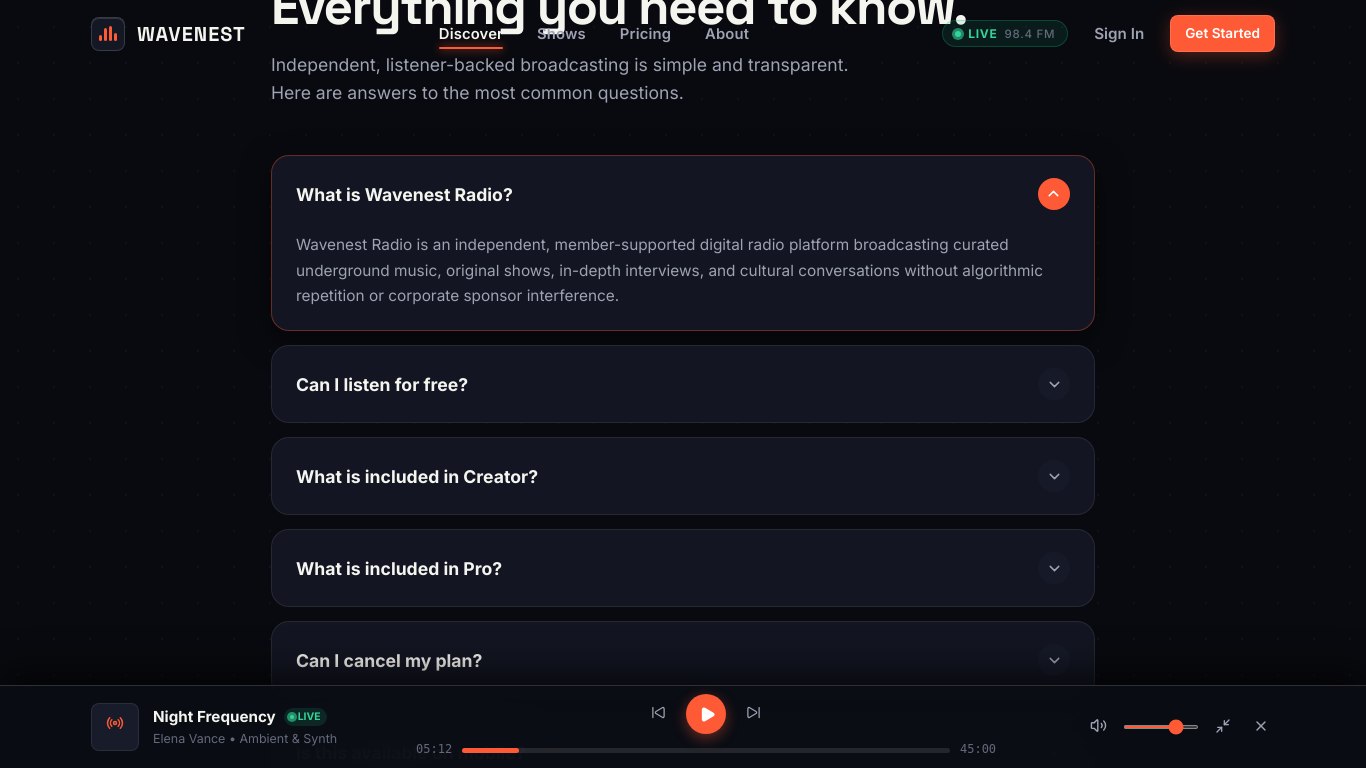
Test: Wavenest Radio Application Test Suite › toggles FAQ accordion cleanly
(page scrolled)
Expected: the text "What is Wavenest Radio?" is shown, [296, 184, 513, 205]
Expected: the text "Wavenest Radio is an independent, member-supported digital radio platform" is shown, [296, 235, 1043, 305]
Click the button "Can I listen for free?" at (382, 384), box [272, 346, 1094, 422]
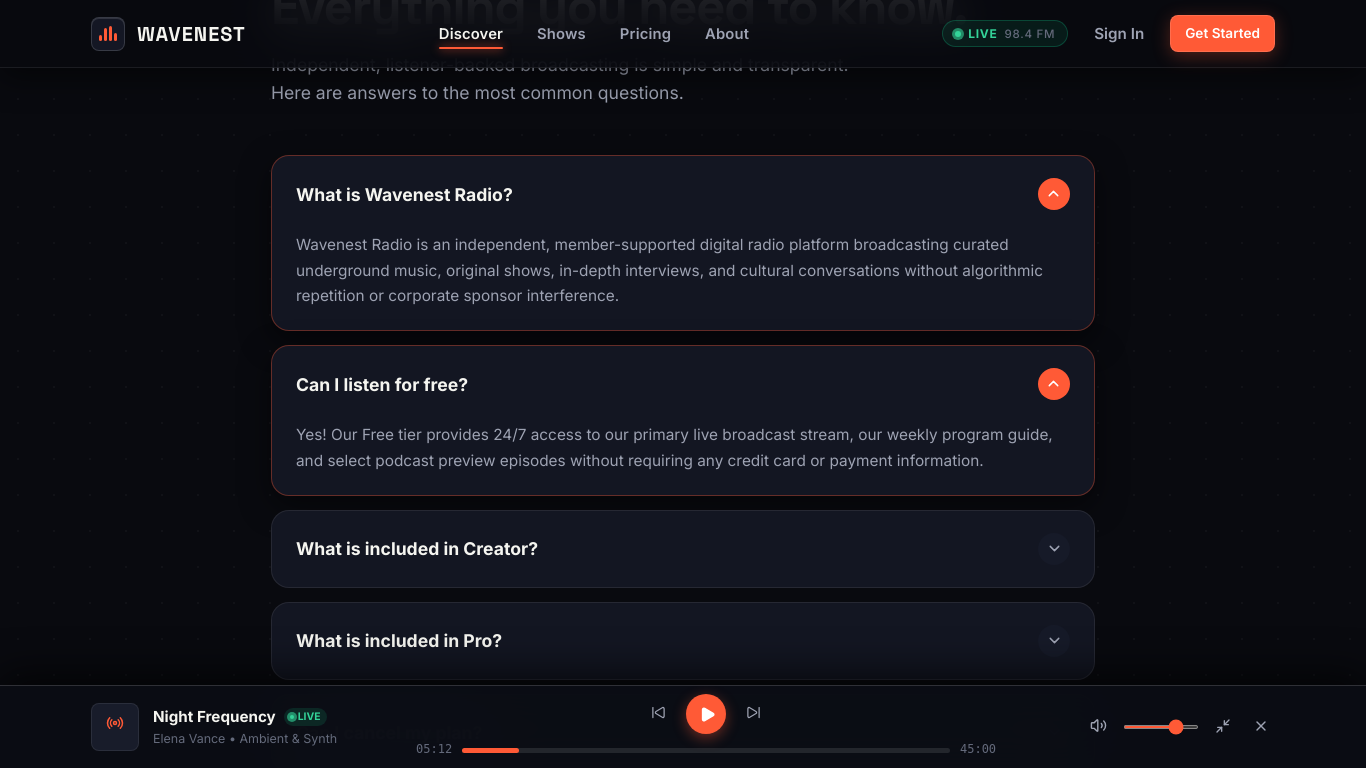
Result: the text "Our Free tier provides 24/7 access to our primary live broadcast stream" is shown at [296, 425, 1053, 470]
